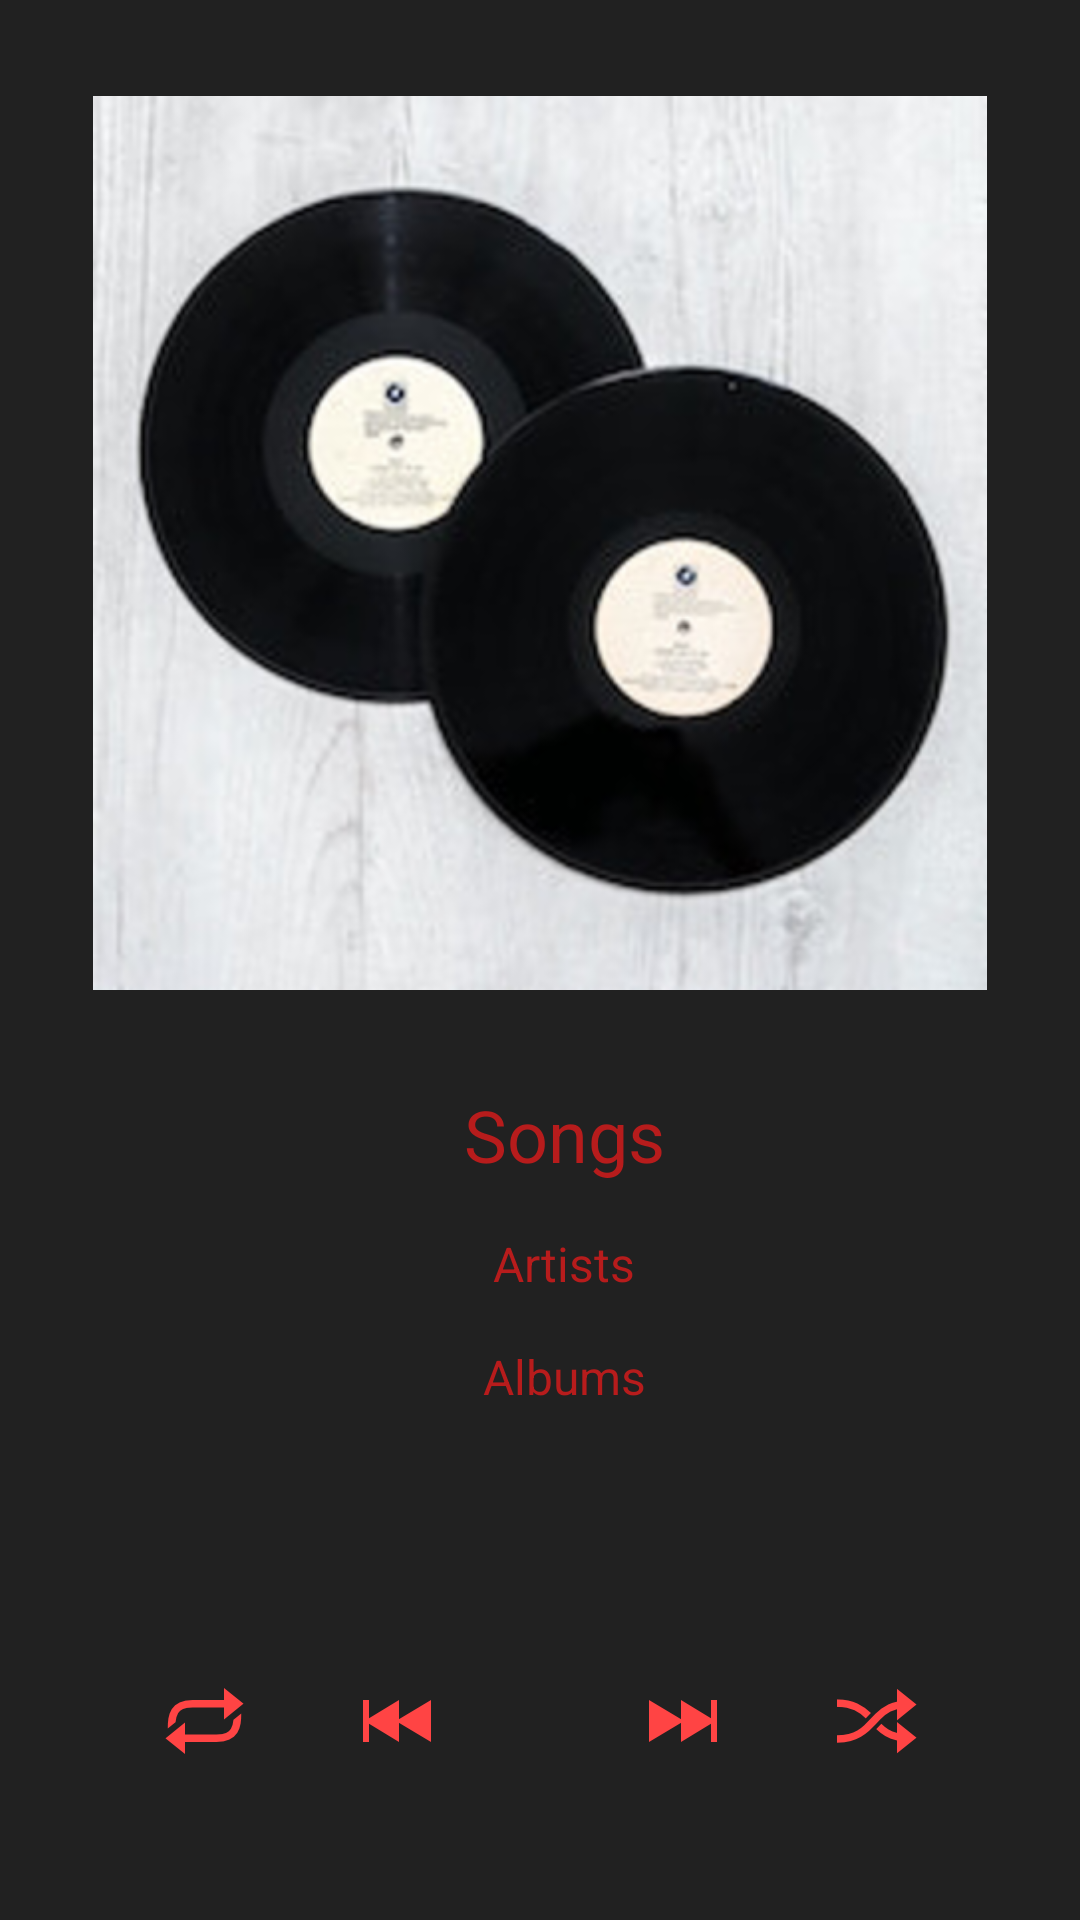

Where icons sit on this 1080px x 1920px app screen, as region(x1, y1, x2, y2):
Next button: region(649, 1700, 717, 1742)
Previous button: region(363, 1700, 431, 1742)
Repeat button: region(165, 1688, 244, 1754)
Schuffle button: region(837, 1689, 917, 1753)
